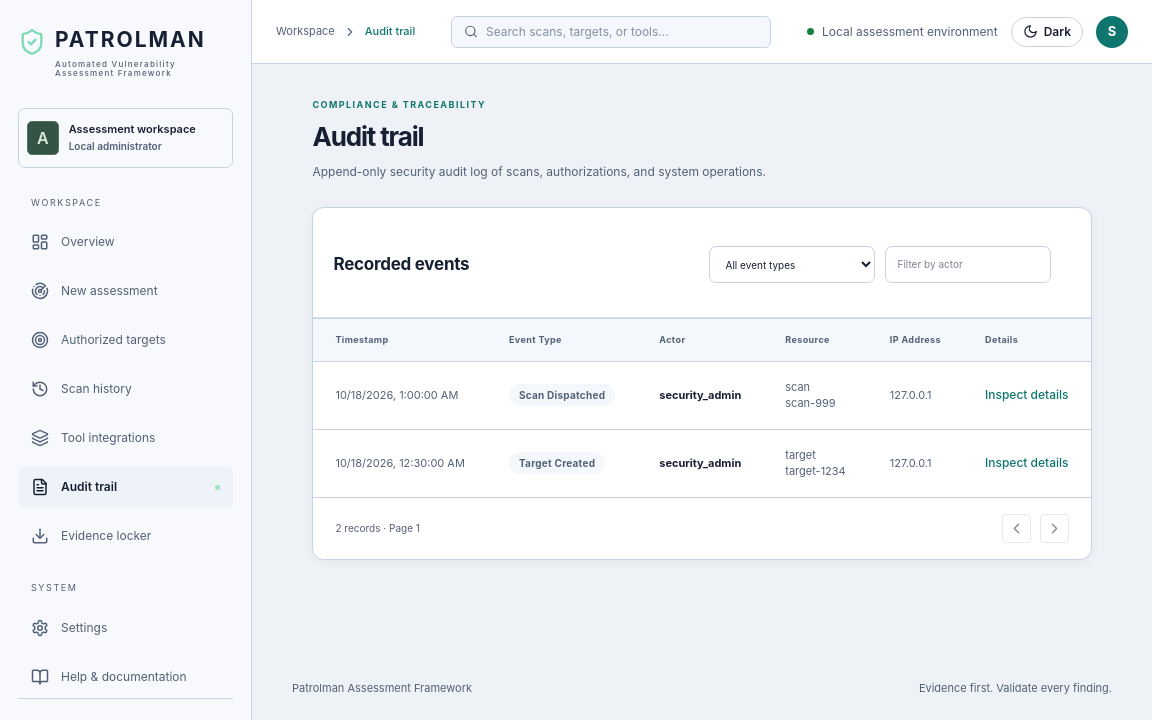
Test: Phase 4: Audit Trail & Evidence Locker Views › opens audit event detail modal when Inspect details is clicked
Expected: the heading "Audit trail" is shown, [312, 120, 423, 152]
Step 1. Click the button "Inspect details" in the row of "10/18/2026, 1:00:00 AM" → (1027,395), box [985, 386, 1069, 404]
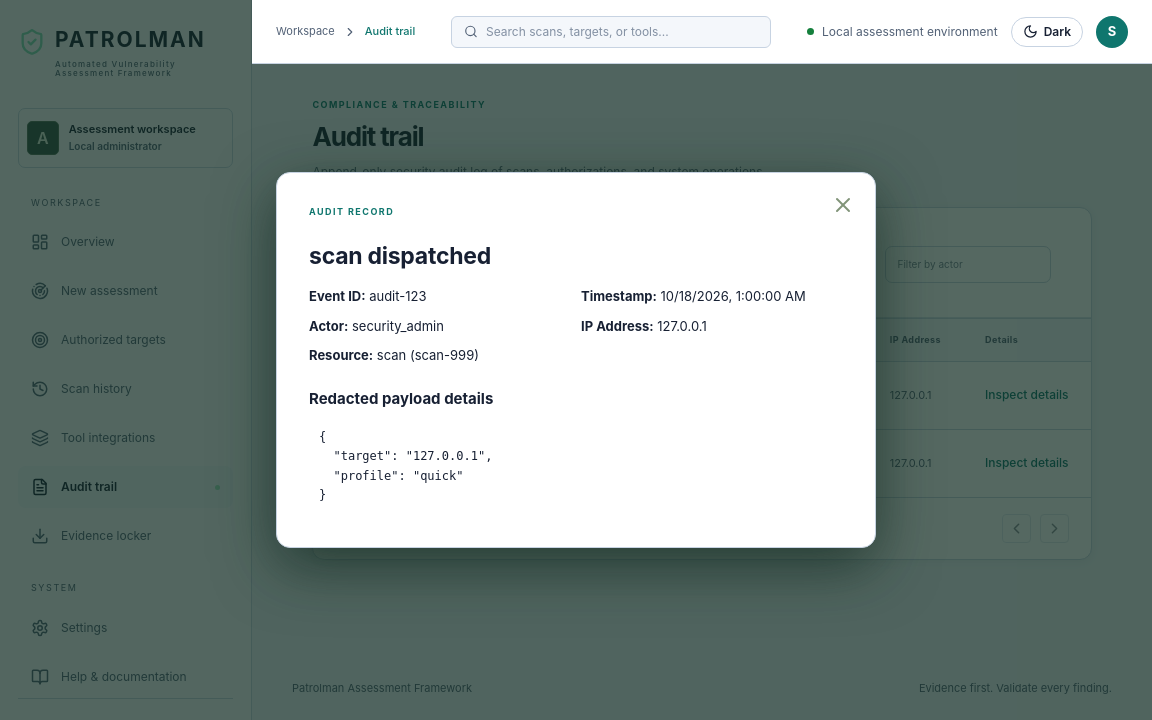
Expected: the text "127.0.0.1" is shown, [868, 361, 963, 429]
Expected: the text "AUDIT RECORD" is shown, [309, 206, 394, 217]
Expected: the heading "Redacted payload details" is shown, [309, 389, 493, 408]
// Close modal
Step 2. Click the button named "Close details" → (843,205), box [831, 193, 855, 217]
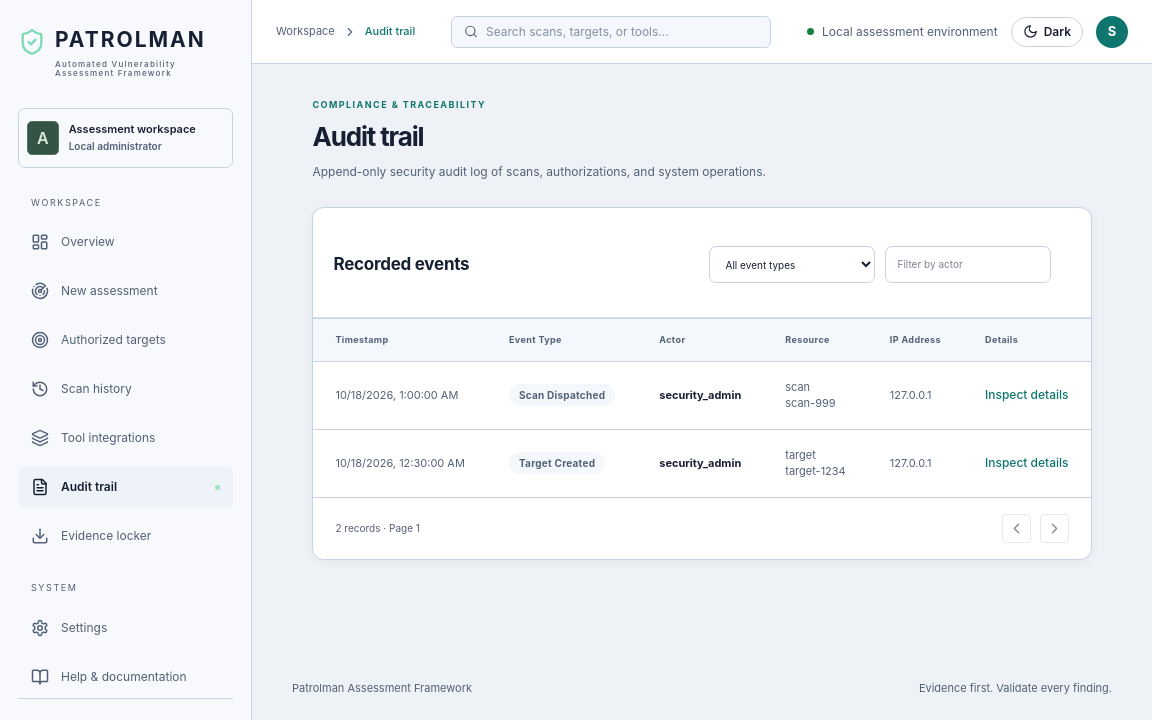
Expected: the text "AUDIT RECORD" is gone
